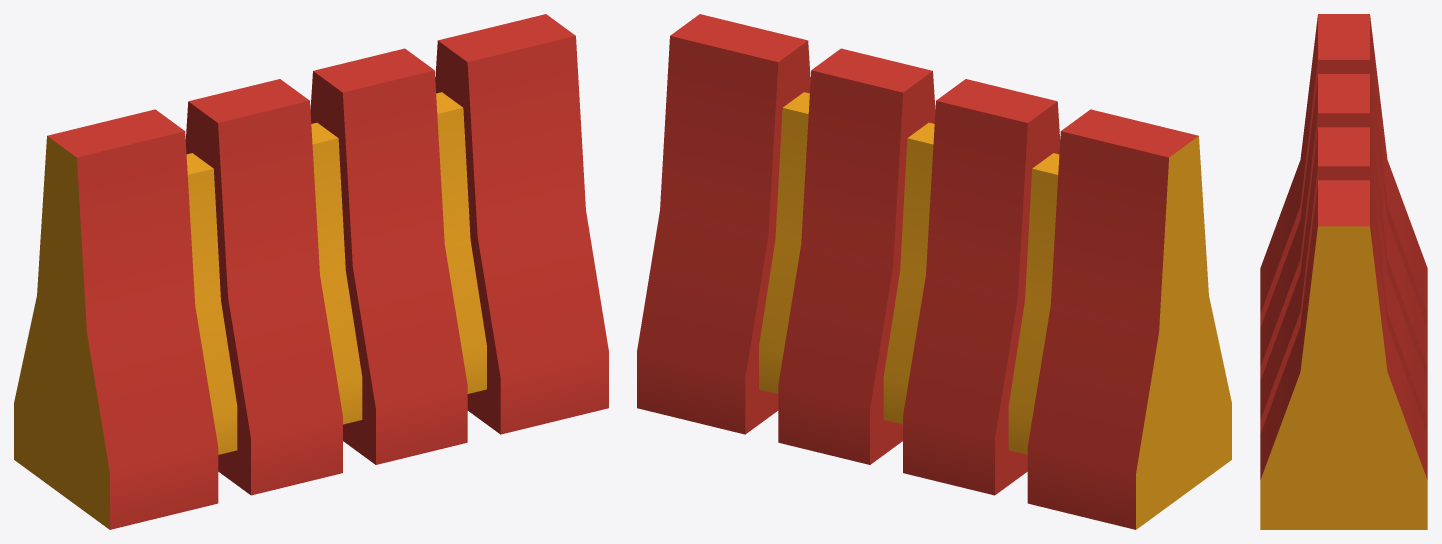
Rendered from Barricade_Plastic_10.fbx.
The picture shows the model from 3 angles, left to right: view 1: azimuth 30°, elevation 25°; view 2: azimuth 150°, elevation 25°; view 3: azimuth 270°, elevation 25°; orthographic projection. The views are drawn at different scales.
Parts seen in each view (by area): view 1: Obstacle_Barricade_Plastic_10; view 2: Obstacle_Barricade_Plastic_10; view 3: Obstacle_Barricade_Plastic_10.
Part boxes in pixels (x1,y1,x2,y2): Obstacle_Barricade_Plastic_10: [14, 14, 608, 529]; Obstacle_Barricade_Plastic_10: [637, 14, 1231, 529]; Obstacle_Barricade_Plastic_10: [1260, 14, 1427, 529].
Size of the model in its own units: 103 by 68.44 by 34.16.
Materials: 1 (1 with a texture image).
